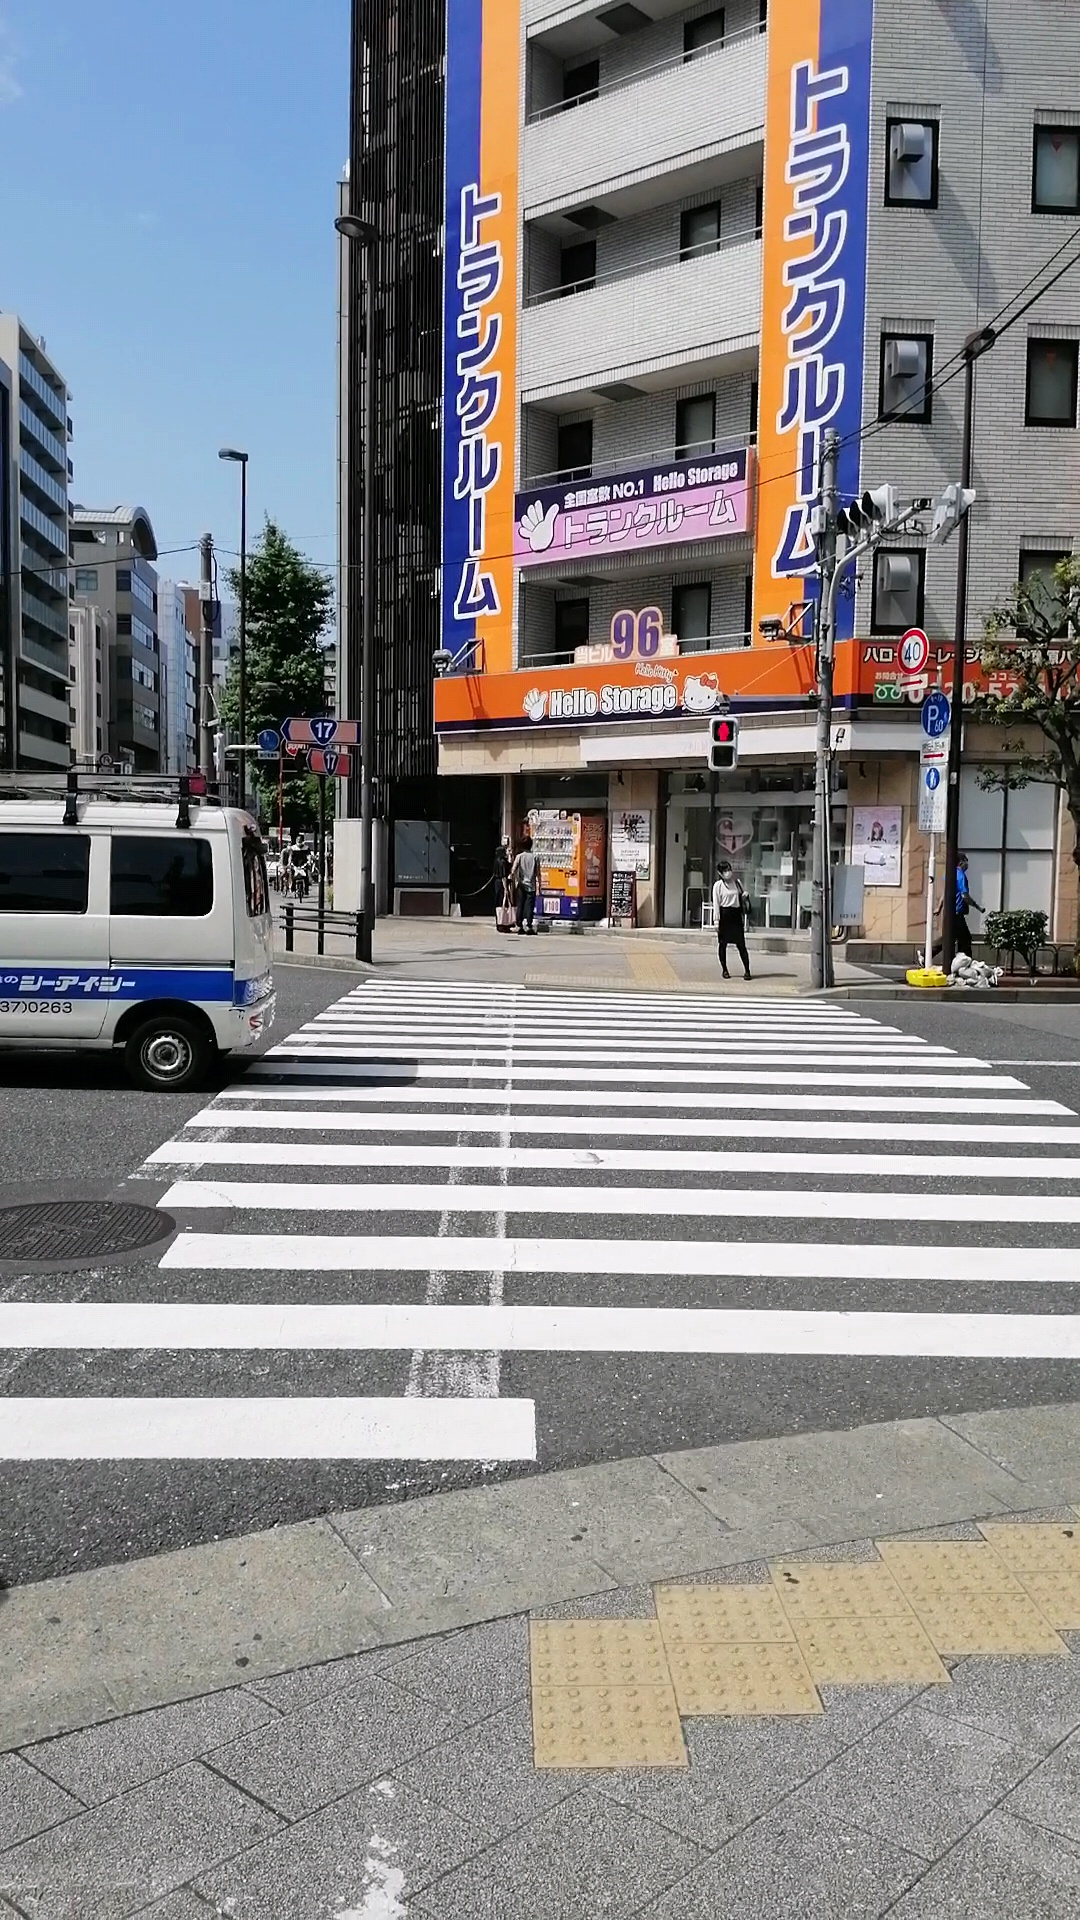red: (707, 715, 738, 771)
